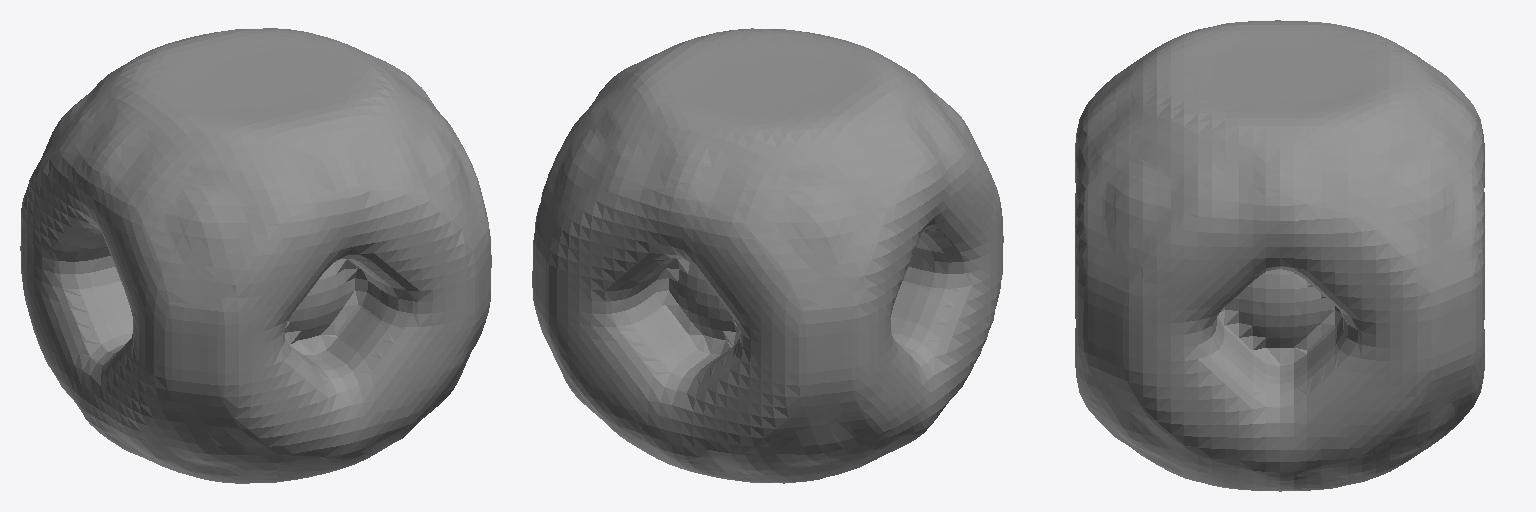
The robot description file, URDF, robot "cube.urdf":
<?xml version="0.0" ?> 
<robot name="cube.urdf"> 
<link name="legobrick"> 
<contact> 
<lateral_friction value="5.0"/> 
<rolling_friction value="0.0"/> 
<contact_cfm value="0.0"/> 
<contact_erp value="1.0"/> 
</contact> 
<inertial> 
<origin rpy="0 0 0" xyz="0.0 0.0 0.0"/> 
<mass value=".01"/> 
<inertia ixx="1" ixy="0" ixz="0" iyy="1" iyz="0" izz="1"/> 
</inertial> 
<visual> 
<origin rpy="1.570796 0 0" xyz="-0.025798644244722575 0.025793330530224718 -0.025789562783252055"/> 
<geometry> 
<mesh filename="B07_3.obj" scale="0.0006975121256949664 0.0006975121256949664 0.0006975121256949664"/> 
</geometry> 
<material name="yellow"> 
<color rgba="0.6 0.6 0.6 1"/> 
</material> 
</visual> 
<collision> 
<origin rpy="1.570796 0 0" xyz="-0.025798644244722575 0.025793330530224718 -0.025789562783252055"/> 
<geometry> 
<mesh filename="B07_3.obj" scale="0.0006975121256949664 0.0006975121256949664 0.0006975121256949664"/> 
</geometry> 
</collision> 
</link> 
</robot>

--- What the picture shows (computed from the rendered views, not written in the file) ---
The picture shows the robot from 3 angles, left to right: view 1: azimuth 30°, elevation 25°; view 2: azimuth 150°, elevation 25°; view 3: azimuth 270°, elevation 25°; orthographic projection.
Model cube.urdf with 1 links and 0 joints (none), rooted at legobrick, posed all joints at 0.
Visible links, largest first — view 1: legobrick; view 2: legobrick; view 3: legobrick.
Link boxes in pixels (<box>): legobrick: <box>20,28,491,483</box>; legobrick: <box>532,28,1003,483</box>; legobrick: <box>1075,20,1484,491</box>.
Size in the robot's own frame: 0.056 by 0.056 by 0.0558 metres.
Meshes: 1 distinct files referenced, 1 mesh visuals loaded (1 OBJ).
